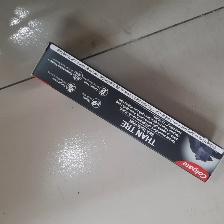Colgate Than: (31, 41, 224, 183)
